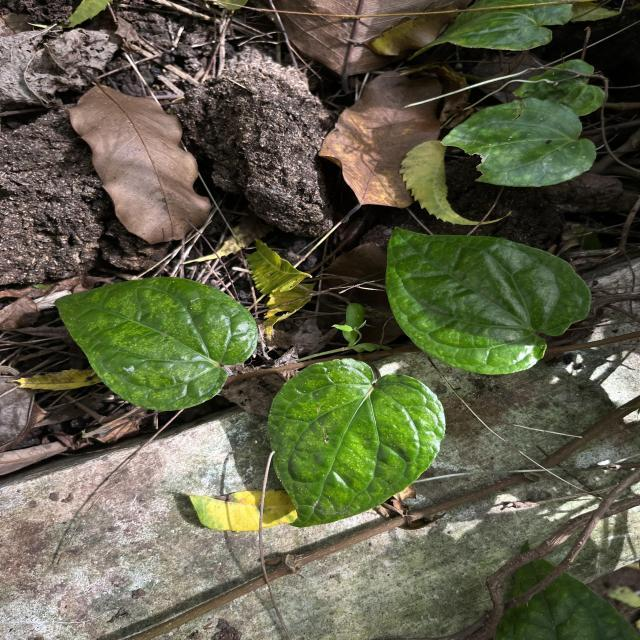Piper betle: (381, 223, 595, 377), (263, 356, 448, 529), (52, 275, 260, 413)
